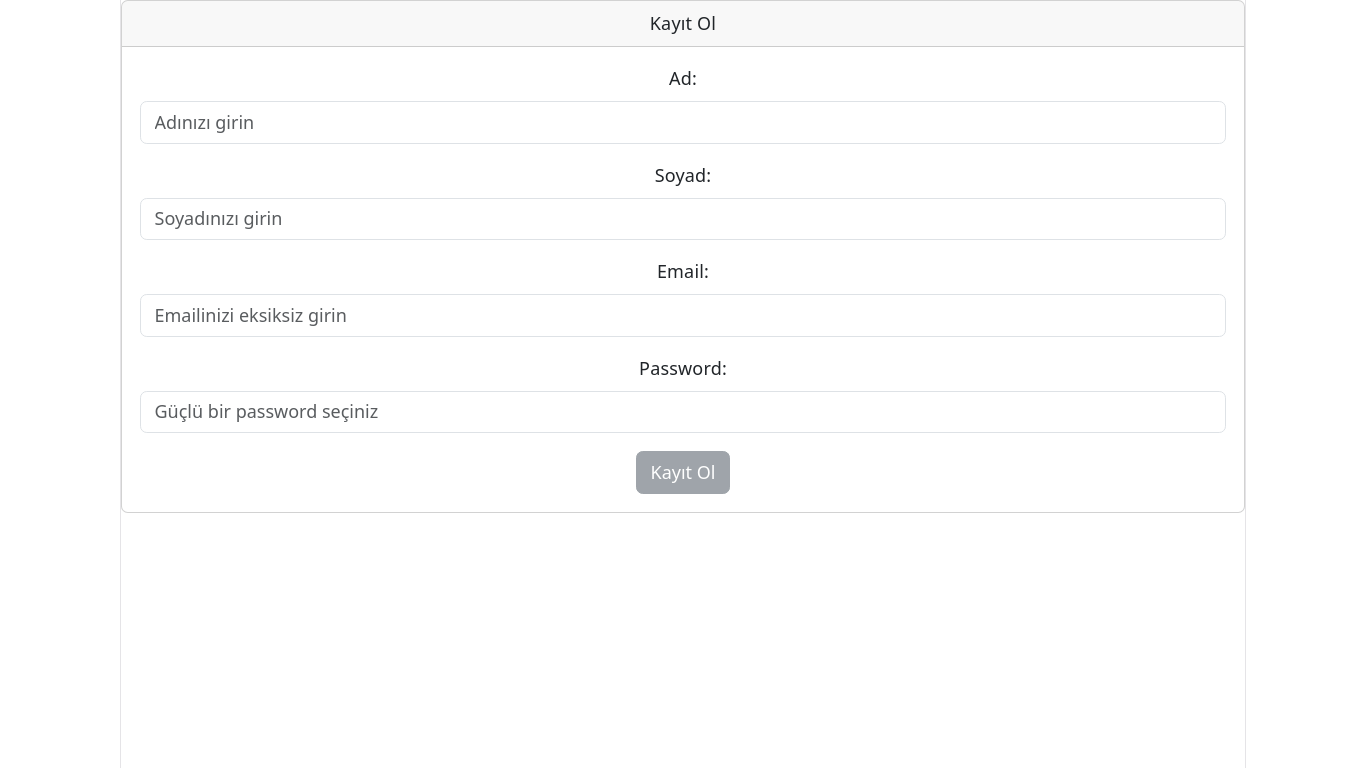
Test: Register Page › Error Messages › email input throws error for buse@wit
The width and height of the screenshot is (1366, 768).
Step 1. Type "buse@wit" into the field with test id "email-input" → coordinates (683, 316), box [140,294,1226,337]
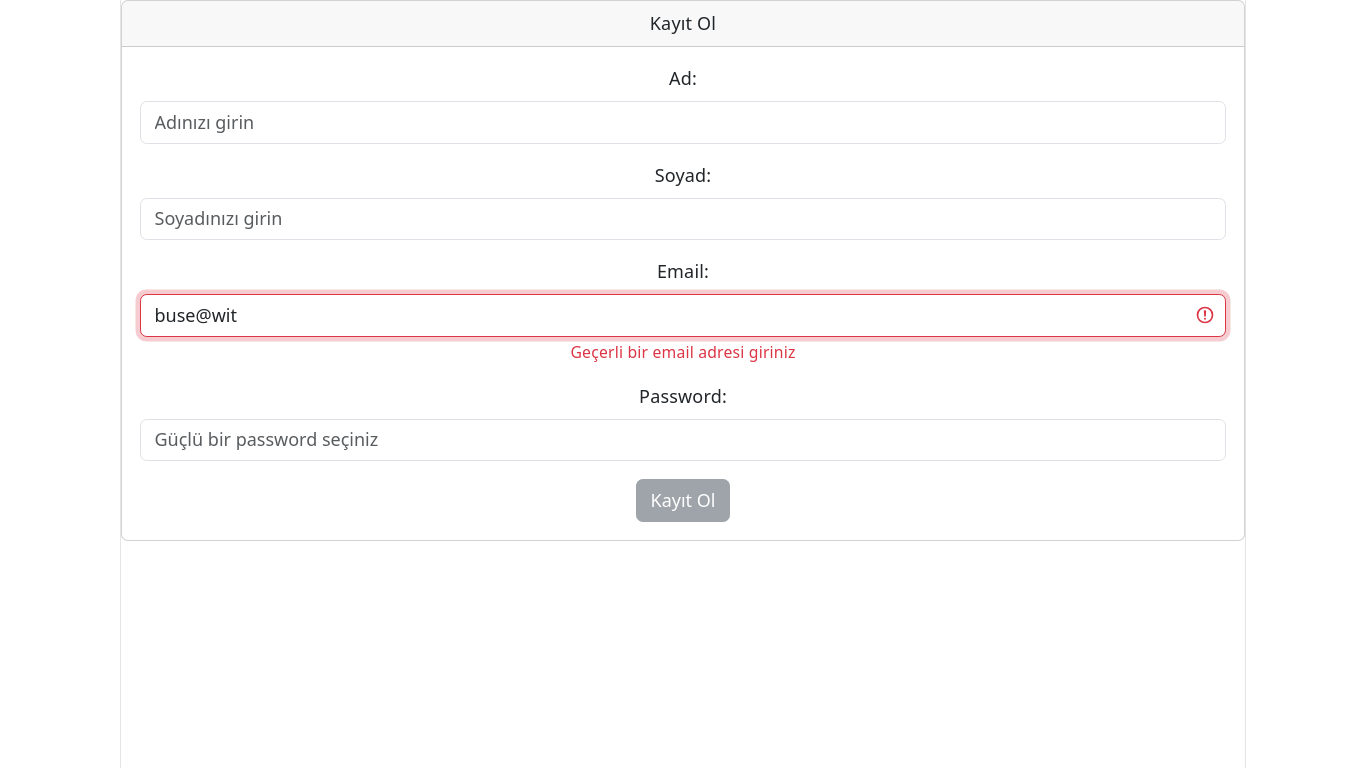
Check: the text "Geçerli bir email adresi giriniz" is shown, box [570,341,796,363]
